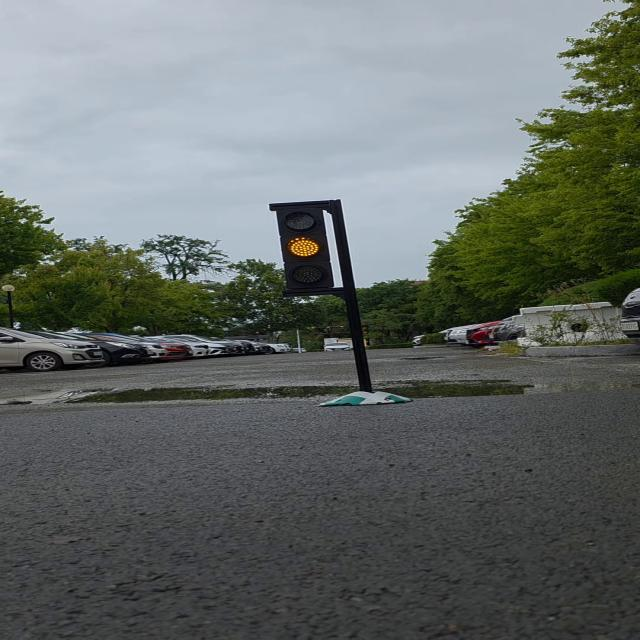yellow: (280, 205, 333, 293)
